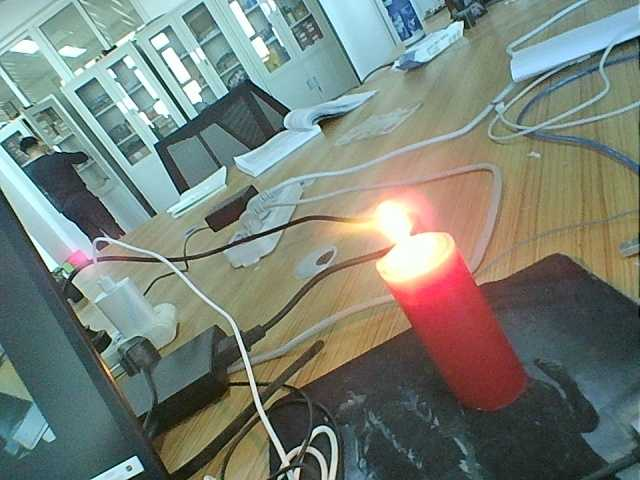candle: (392, 274, 534, 407)
fire: (369, 202, 436, 268)
